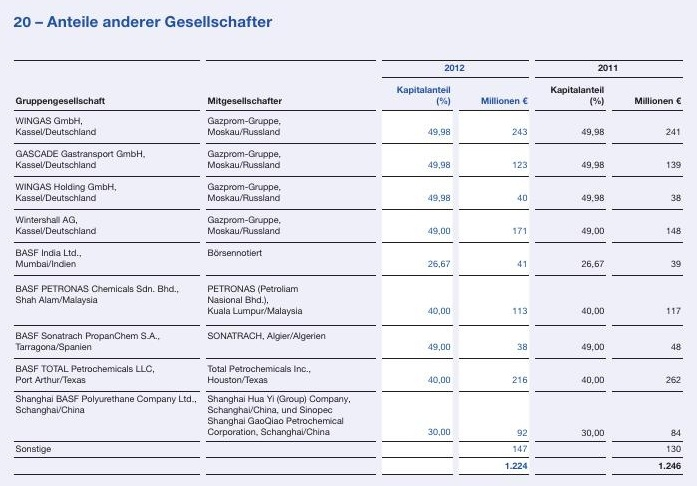table: (0, 0, 697, 486)
